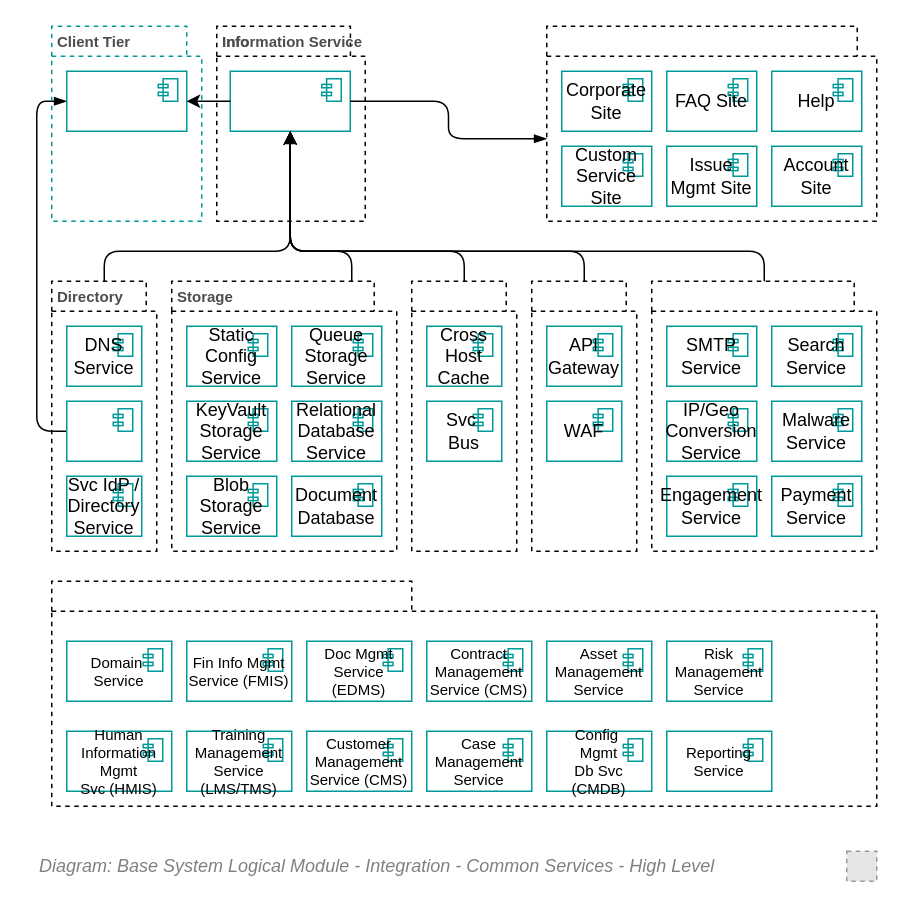
This 903x908 diagram has some shape labels left out. Grey dashed boxes stand in for pictures. The box of each missing label's shape, as (x1, y1, x2, y2) in pixels:
3rd Party Services: (650, 280, 877, 551)
Access: (530, 280, 637, 551)
Base Organisation Services: (50, 580, 877, 806)
Cache / Sync: (410, 280, 517, 551)
Client IdP Service: (65, 400, 142, 461)
Information Service: (229, 70, 350, 131)
Service Client: (65, 70, 187, 131)
Supporting Sites: (545, 25, 877, 221)
